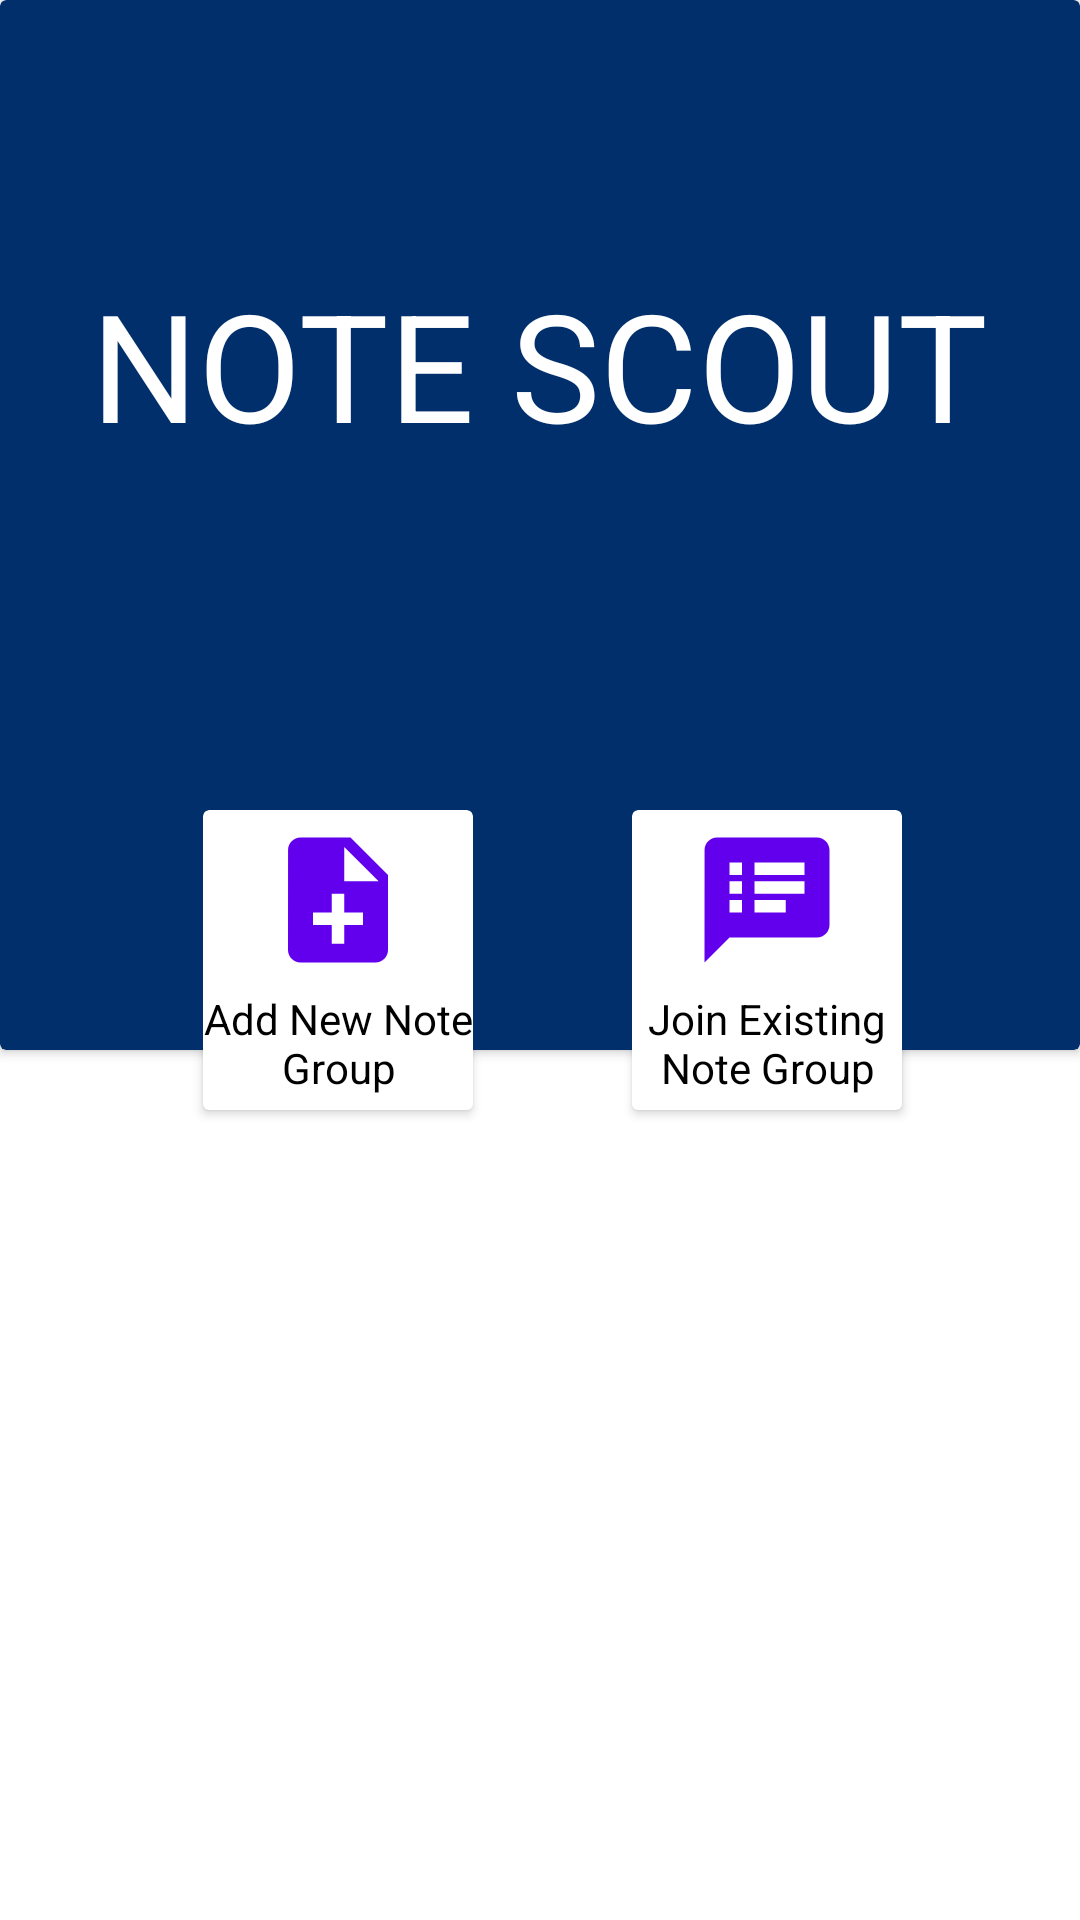

Icon bounding boxes for this 1080 x 1920 phone screenshot, format {"left": x1, "top": y1, "right": x2, "bottom": y2}:
speaker notes: {"left": 704, "top": 837, "right": 830, "bottom": 963}
